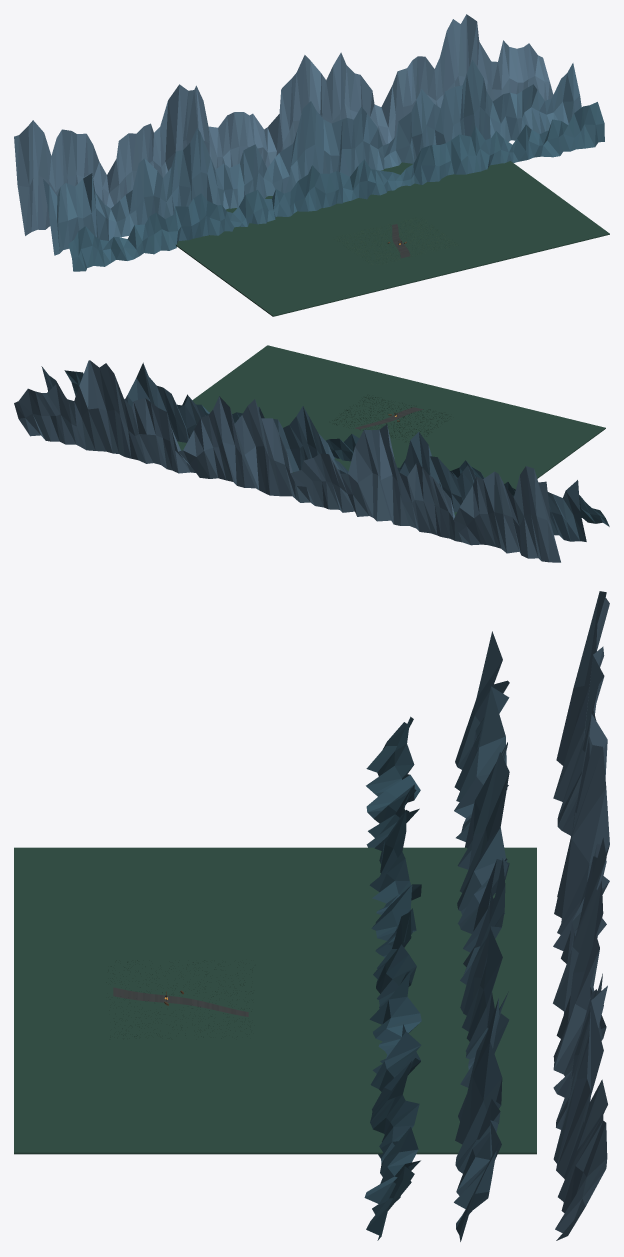
File: ForestCampLand.glb
The picture shows the model from 3 angles, top to bottom: view 1: azimuth 30°, elevation 25°; view 2: azimuth 150°, elevation 25°; view 3: azimuth 270°, elevation 25°; orthographic projection. The views are drawn at different scales.
Visible parts, largest first — view 1: ForestCampLand; view 2: ForestCampLand; view 3: ForestCampLand.
Part boxes in pixels (box(x1,y1,x2,y2)): ForestCampLand: box(14, 14, 609, 316); ForestCampLand: box(14, 345, 609, 562); ForestCampLand: box(14, 591, 609, 1241).
Bounding box in the file's own units: 219 × 41.13 × 114.
